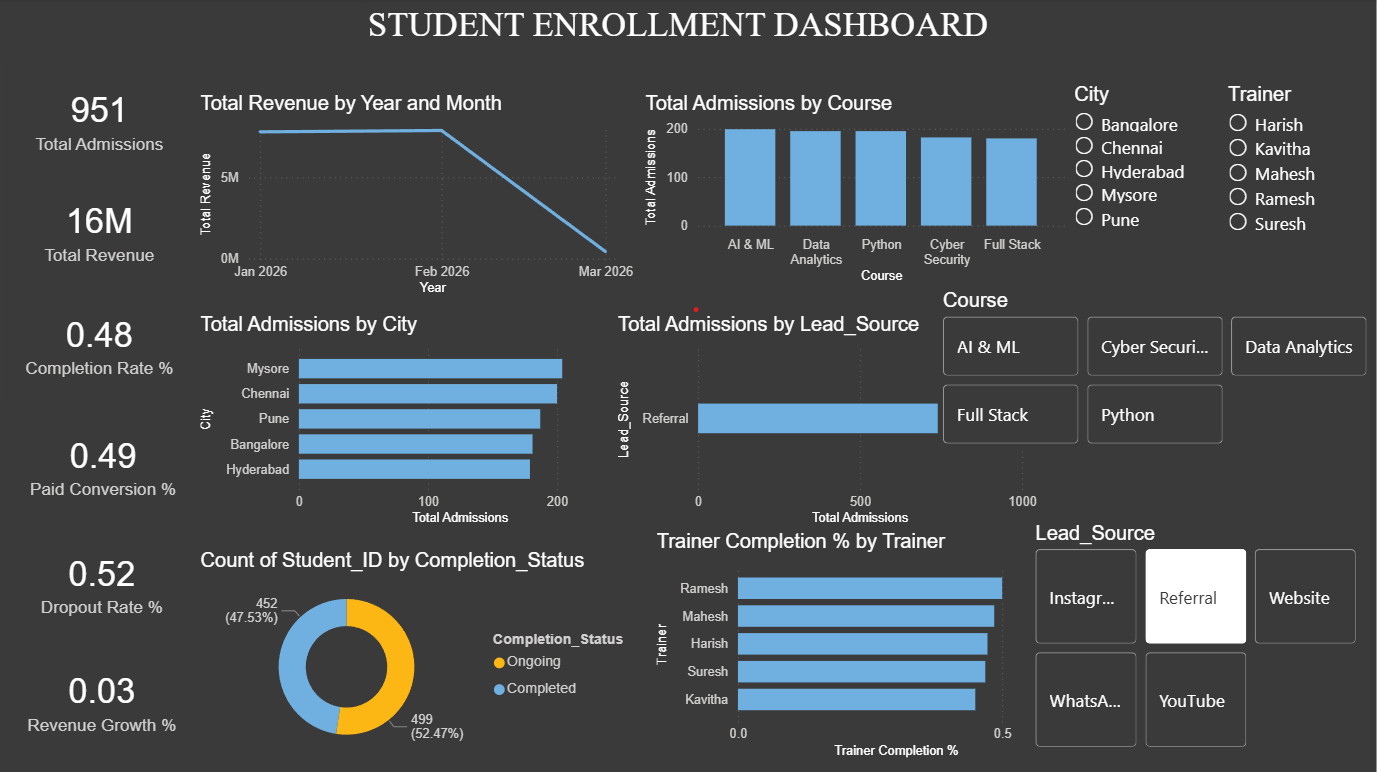

The dashboard page shown, as its layout file describes it:
{"tool":"powerbi","page":{"name":"Page 1","canvas":[1280,720],"ordinal":0},"visuals":[{"type":"textbox","box":[338.4,0,590.7,48.8],"z":0},{"type":"card","fields":{"Values":["Enrollment Data.Total Admissions"]},"box":[8.1,61.6,170.9,100],"z":1},{"type":"card","fields":{"Values":["Enrollment Data.Total Revenue"]},"box":[8.1,161.6,170.9,107],"z":2},{"type":"card","fields":{"Values":["Enrollment Data.Completion Rate %"]},"box":[8.1,268.6,170.9,103.5],"z":3},{"type":"card","fields":{"Values":["Enrollment Data.Paid Conversion %"]},"box":[11.6,383.7,170.9,98.8],"z":4},{"type":"card","fields":{"Values":["Enrollment Data.Dropout Rate %"]},"box":[10.5,482.6,170.9,120.9],"z":5},{"type":"card","fields":{"Values":["Enrollment Data.Revenue Growth %"]},"box":[10.5,594.2,170.9,116.3],"z":6},{"type":"lineChart","fields":{"Y":["Enrollment Data.Total Revenue"],"Category":["Enrollment Data.Admission_Date.Variation.Date Hierarchy.Year","Enrollment Data.Admission_Date.Variation.Date Hierarchy.Month"]},"box":[182.6,86,412.8,194.2],"z":7},{"type":"clusteredColumnChart","fields":{"Category":["Enrollment Data.Course"],"Y":["Enrollment Data.Total Admissions"]},"box":[596.5,86,400,182.6],"z":8},{"type":"clusteredBarChart","fields":{"Category":["Enrollment Data.City"],"Y":["Enrollment Data.Total Admissions"]},"box":[182.6,291.9,412.8,202.3],"z":9},{"type":"clusteredBarChart","fields":{"Category":["Enrollment Data.Lead_Source"],"Y":["Enrollment Data.Total Admissions"]},"box":[570.9,291.9,400,202.3],"z":10},{"type":"donutChart","fields":{"Category":["Enrollment Data.Completion_Status"],"Y":["Enrollment Data.Student_ID"]},"box":[182.6,511.6,412.8,198.8],"z":11},{"type":"clusteredBarChart","fields":{"Category":["Enrollment Data.Trainer"],"Y":["Enrollment Data.Trainer Completion %"]},"box":[607,494.2,389.5,216.3],"z":12},{"type":"advancedSlicerVisual","fields":{"Values":["Enrollment Data.Course"]},"box":[873.3,269.8,407,150],"z":13},{"type":"listSlicer","fields":{"Values":["Enrollment Data.City"]},"box":[994.9,78.2,119.4,208.6],"z":14},{"type":"listSlicer","fields":{"Values":["Enrollment Data.Trainer"]},"box":[1138.9,78.2,118,216.8],"z":15},{"type":"advancedSlicerVisual","fields":{"Values":["Enrollment Data.Lead_Source"]},"box":[959.2,485.8,310.1,215.4],"z":16}]}

Visuals, with their boxes in screenshot pixels (x1, y1, x2, y2), scaled from the page's 1280x720 canvas onto the 1377x772 screenshot:
textbox: {"x1": 364, "y1": 0, "x2": 1000, "y2": 52}
card - Enrollment Data.Total Admissions: {"x1": 9, "y1": 66, "x2": 193, "y2": 173}
card - Enrollment Data.Total Revenue: {"x1": 9, "y1": 173, "x2": 193, "y2": 288}
card - Enrollment Data.Completion Rate %: {"x1": 9, "y1": 288, "x2": 193, "y2": 399}
card - Enrollment Data.Paid Conversion %: {"x1": 12, "y1": 411, "x2": 196, "y2": 517}
card - Enrollment Data.Dropout Rate %: {"x1": 11, "y1": 517, "x2": 195, "y2": 647}
card - Enrollment Data.Revenue Growth %: {"x1": 11, "y1": 637, "x2": 195, "y2": 762}
lineChart - Enrollment Data.Total Revenue x Enrollment Data.Admission_Date.Variation.Date Hierarchy.Year: {"x1": 196, "y1": 92, "x2": 641, "y2": 300}
clusteredColumnChart - Enrollment Data.Course x Enrollment Data.Total Admissions: {"x1": 642, "y1": 92, "x2": 1072, "y2": 288}
clusteredBarChart - Enrollment Data.City x Enrollment Data.Total Admissions: {"x1": 196, "y1": 313, "x2": 641, "y2": 530}
clusteredBarChart - Enrollment Data.Lead_Source x Enrollment Data.Total Admissions: {"x1": 614, "y1": 313, "x2": 1044, "y2": 530}
donutChart - Enrollment Data.Completion_Status x Enrollment Data.Student_ID: {"x1": 196, "y1": 549, "x2": 641, "y2": 762}
clusteredBarChart - Enrollment Data.Trainer x Enrollment Data.Trainer Completion %: {"x1": 653, "y1": 530, "x2": 1072, "y2": 762}
advancedSlicerVisual - Enrollment Data.Course: {"x1": 939, "y1": 289, "x2": 1376, "y2": 450}
listSlicer - Enrollment Data.City: {"x1": 1070, "y1": 84, "x2": 1199, "y2": 308}
listSlicer - Enrollment Data.Trainer: {"x1": 1225, "y1": 84, "x2": 1352, "y2": 316}
advancedSlicerVisual - Enrollment Data.Lead_Source: {"x1": 1032, "y1": 521, "x2": 1365, "y2": 752}
